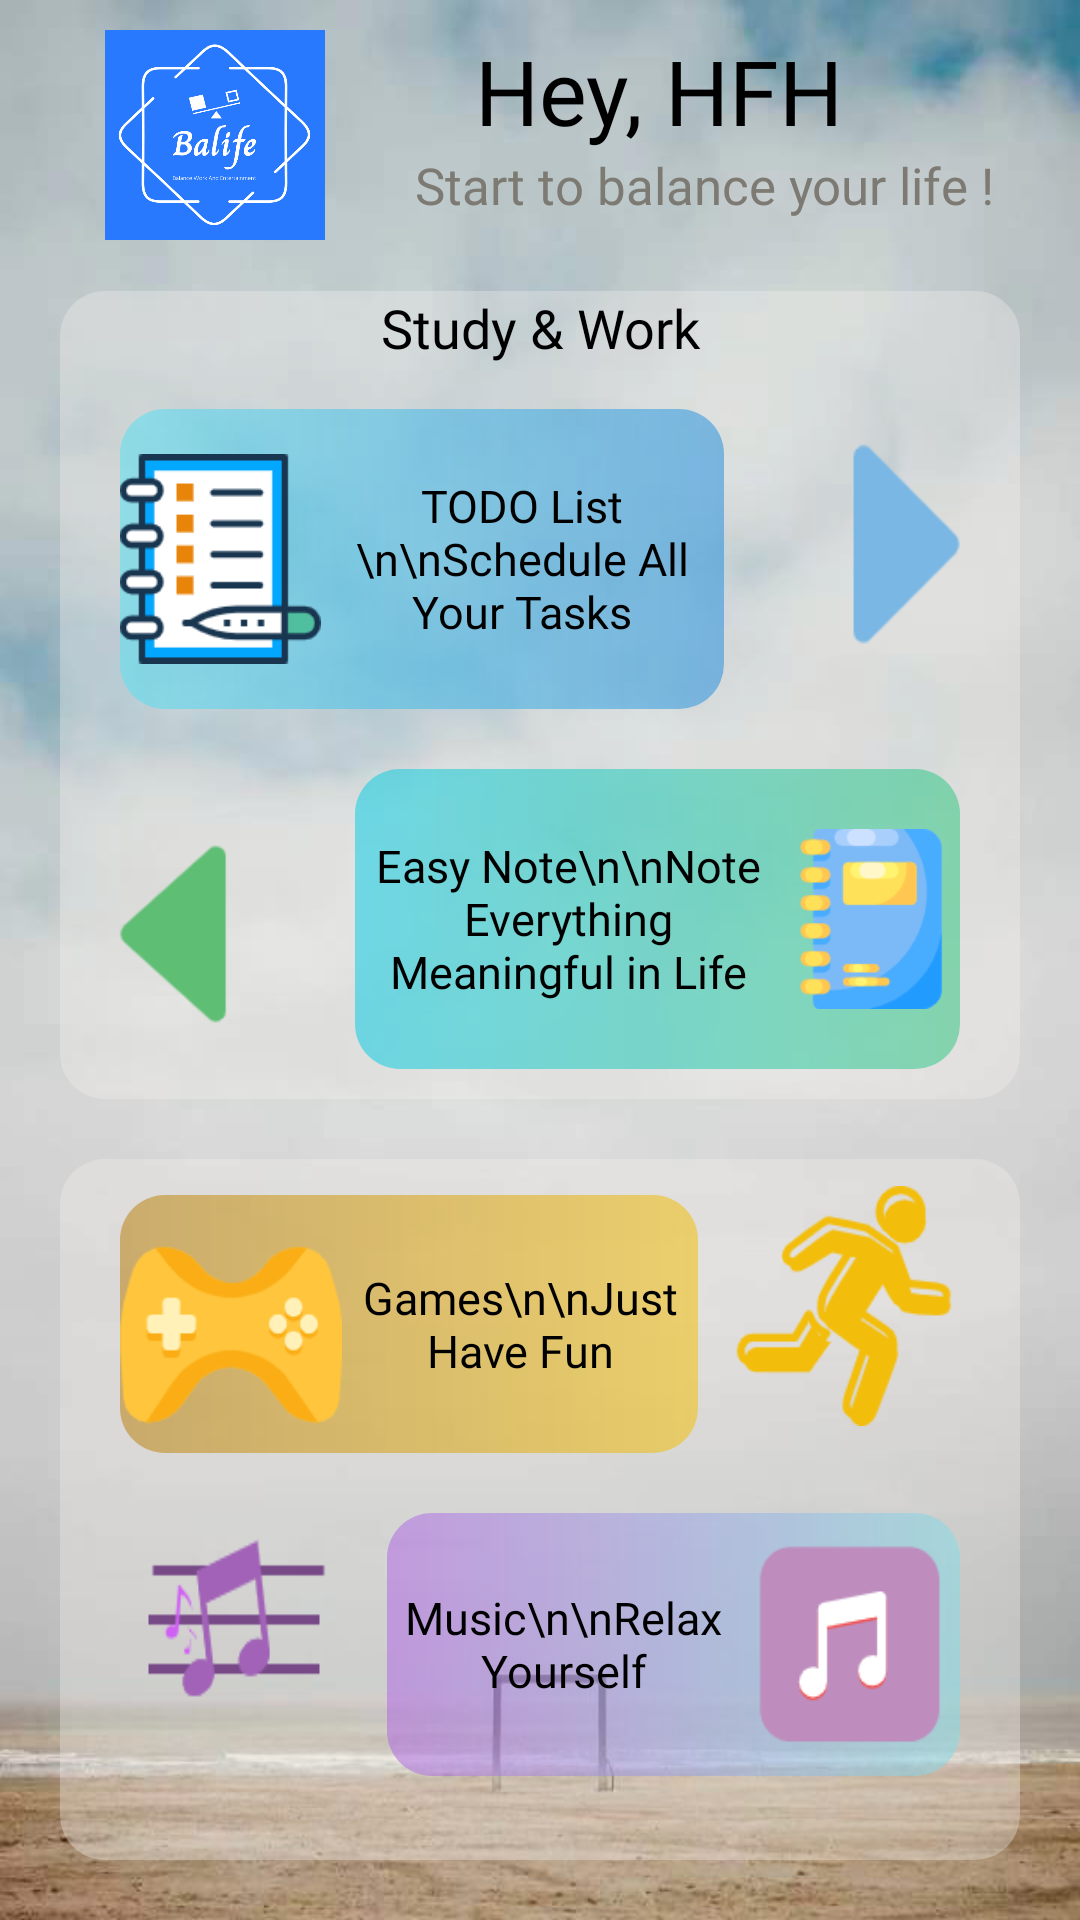

Screen size 1080 × 1920. Icon name, then its box in pixels as (x1, y1, x2, y2):
left arrow: (120, 845, 226, 1022)
right arrow: (853, 444, 960, 643)
run: (736, 1186, 952, 1426)
